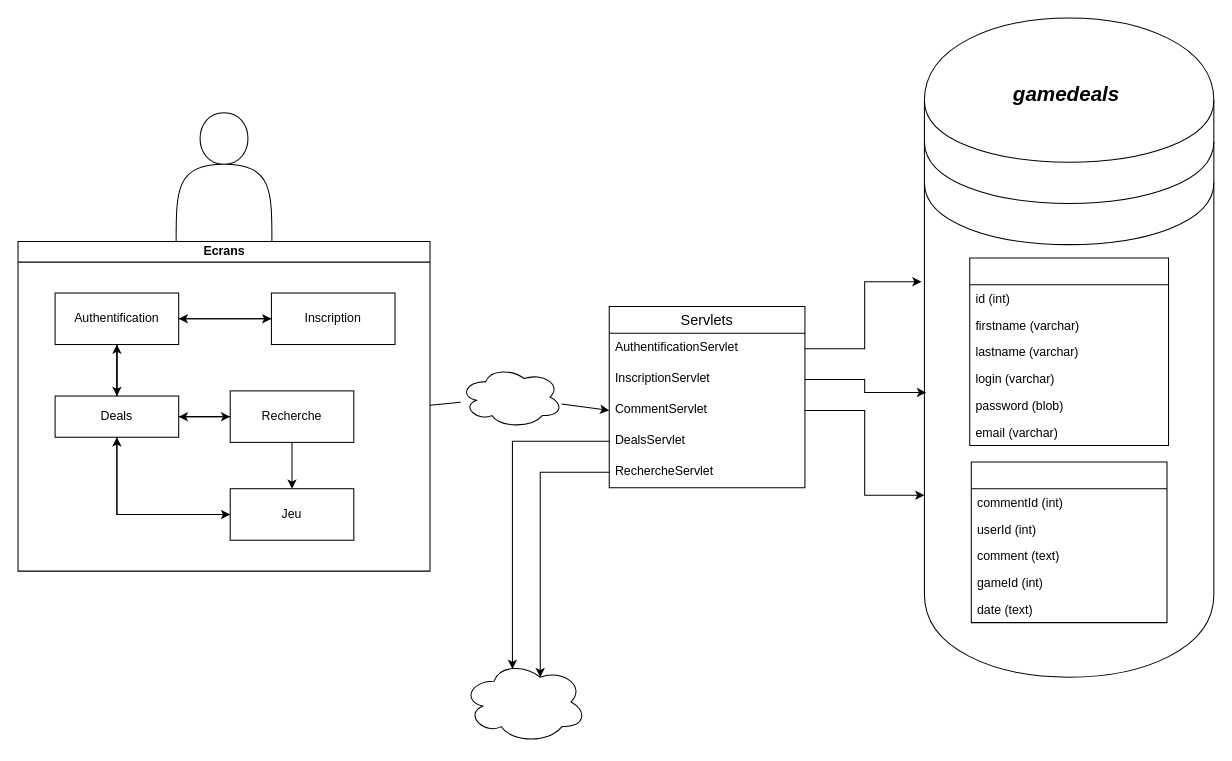
The diagram is 1232 pixels wide and 761 high, and some of its shapes have lost their labels. Here are the shapes that lost their labels. From the top down, the box of each, then its label:
(969, 257, 1169, 445): Users
(459, 365, 563, 428): HTTP
(970, 461, 1167, 623): Comments
(462, 660, 587, 743): API
